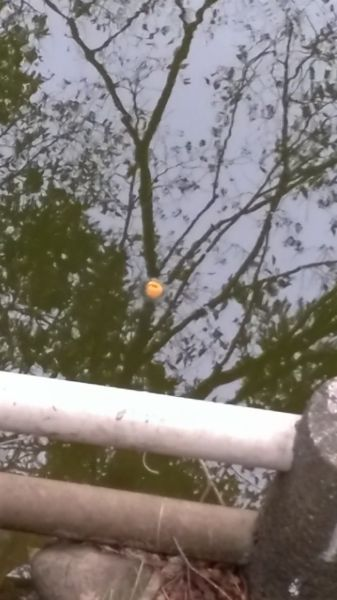eggs: (141, 276, 170, 301)
